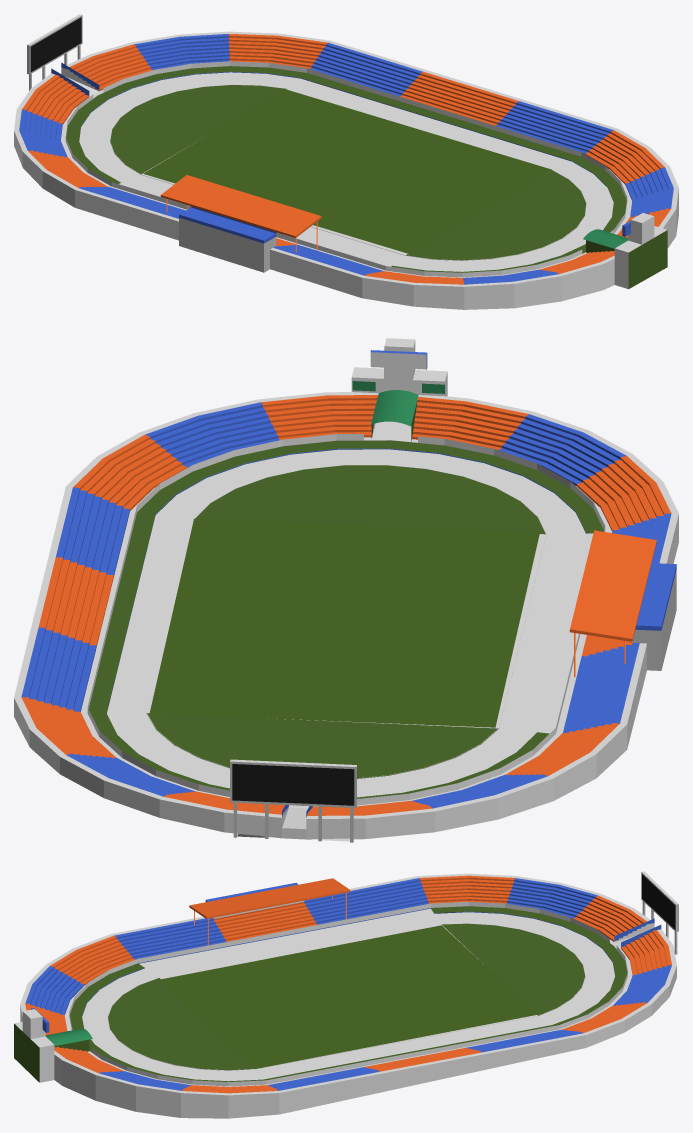
Rendered from старая арена.fbx.
3 renders of one model, top to bottom at view 1: azimuth 30°, elevation 25°; view 2: azimuth 150°, elevation 25°; view 3: azimuth 270°, elevation 25°, orthographic. The views are drawn at different scales.
Visible parts, largest first — view 1: Sketchup, Плоскость; view 2: Sketchup, Плоскость; view 3: Sketchup, Плоскость.
Part boxes in pixels (x1=…): Sketchup: x1=14, y1=14, x2=678, y2=309; Плоскость: x1=143, y1=89, x2=551, y2=253; Sketchup: x1=14, y1=338, x2=678, y2=842; Плоскость: x1=149, y1=518, x2=539, y2=727; Sketchup: x1=14, y1=871, x2=678, y2=1118; Плоскость: x1=160, y1=925, x2=537, y2=1068.
Bounding box in the file's own units: 16164 × 2160 × 20480.
